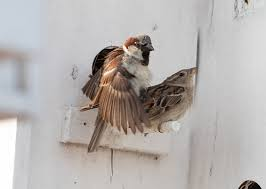hsparrow: (74, 33, 155, 158), (134, 65, 201, 134)
